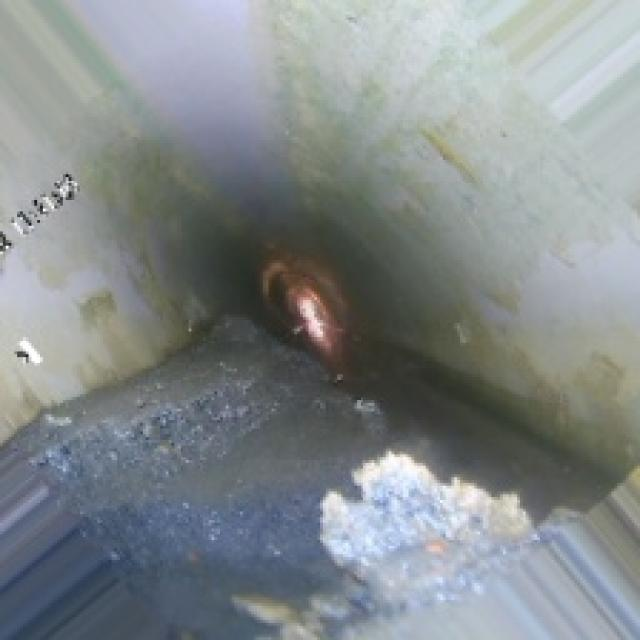sluge accumulation: (80, 343, 591, 626)
